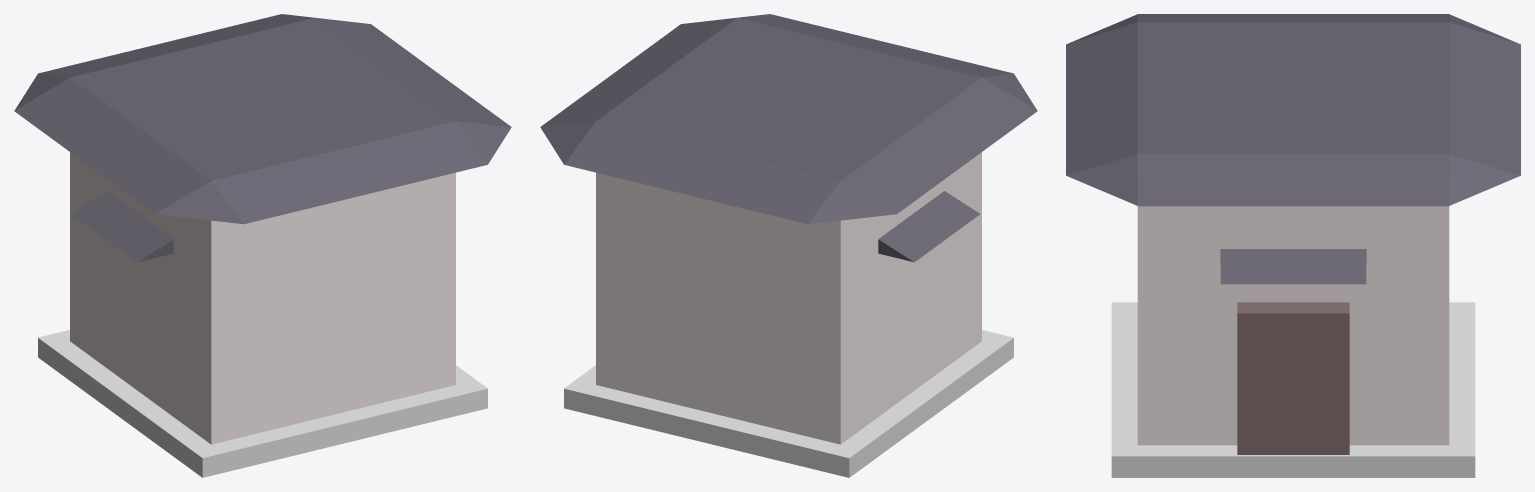
Rendered from A1-gnd--room-door-xp.fbx.
3 renders of one model, left to right at view 1: azimuth 30°, elevation 25°; view 2: azimuth 150°, elevation 25°; view 3: azimuth 270°, elevation 25°, orthographic. The views are drawn at different scales.
Parts seen in each view (by area): view 1: Room.003, Foundation.002, Room-separator, Foundation; view 2: Room.003, Foundation.002, Room-separator, Foundation; view 3: Foundation.002, Room.003, Room-separator, Room.004, Foundation.
Part boxes in pixels (bbox=[...]): Room.003: bbox=[70, 152, 455, 444]; Foundation.002: bbox=[14, 14, 511, 224]; Room-separator: bbox=[38, 330, 487, 477]; Foundation: bbox=[72, 191, 173, 262]; Room.003: bbox=[596, 152, 981, 444]; Foundation.002: bbox=[540, 14, 1037, 224]; Room-separator: bbox=[564, 330, 1013, 477]; Foundation: bbox=[878, 191, 979, 262]; Foundation.002: bbox=[1066, 14, 1520, 206]; Room.003: bbox=[1137, 206, 1449, 445]; Room-separator: bbox=[1111, 302, 1475, 477]; Room.004: bbox=[1237, 302, 1349, 454]; Foundation: bbox=[1220, 249, 1366, 284].
Size of the model in its own units: 263 by 200 by 263.
